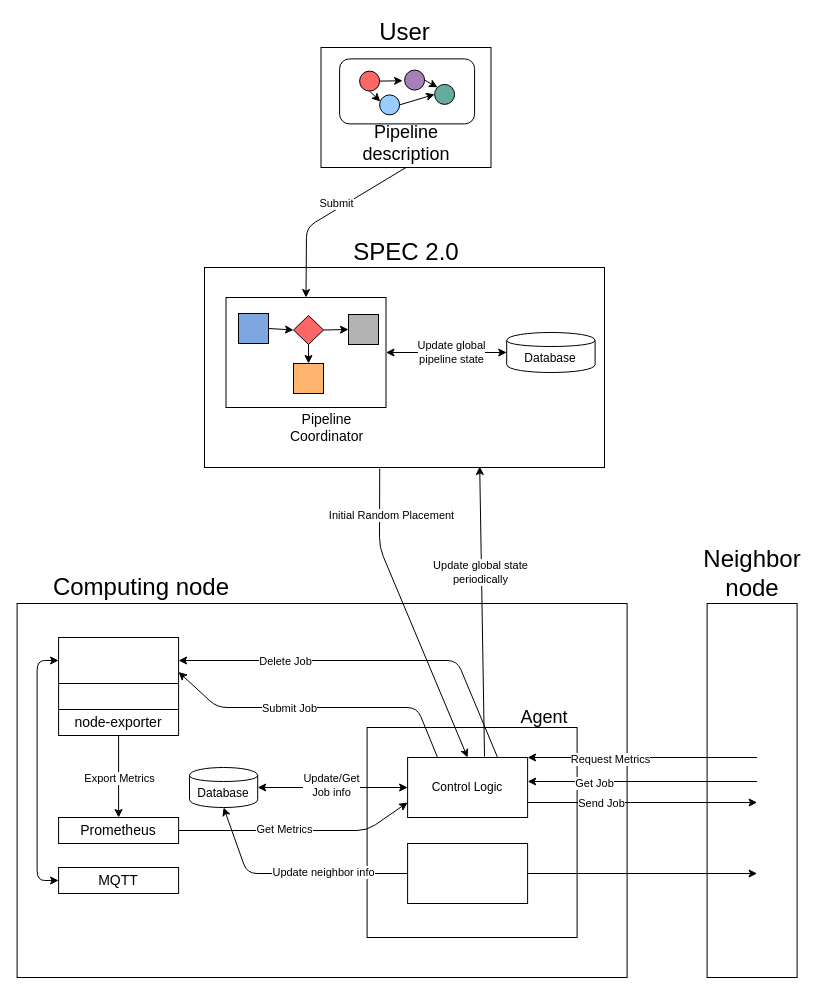
The diagram is 835 pixels wide and 995 high, and some of its shapes have lost their labels. The box of each missing label's shape, as (x1, y1, x2, y2) in pixels:
cAdvisor: (58, 682, 179, 710)
Flink: JM TM: (58, 636, 179, 684)
Neighbor discovery: (407, 842, 528, 904)
